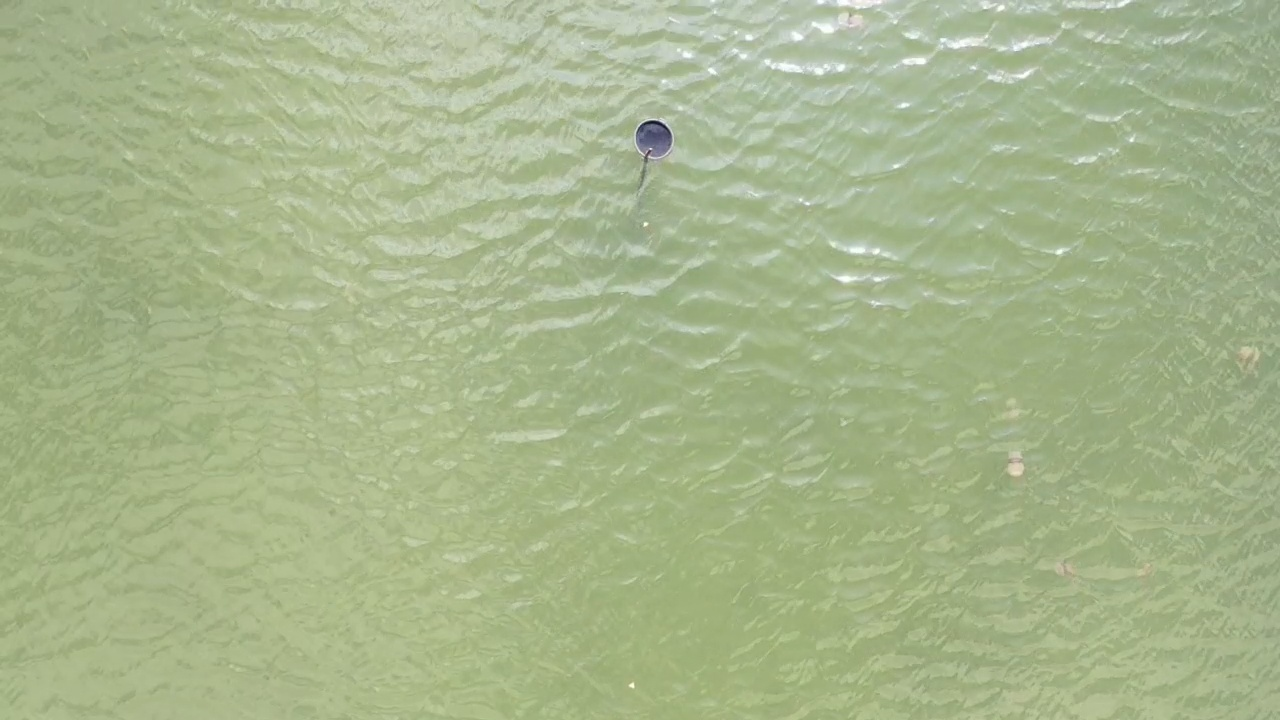meduse: (838, 10, 866, 31), (1006, 452, 1027, 478), (1054, 557, 1078, 577), (1238, 346, 1260, 362), (1135, 561, 1151, 578), (1005, 399, 1021, 416)
